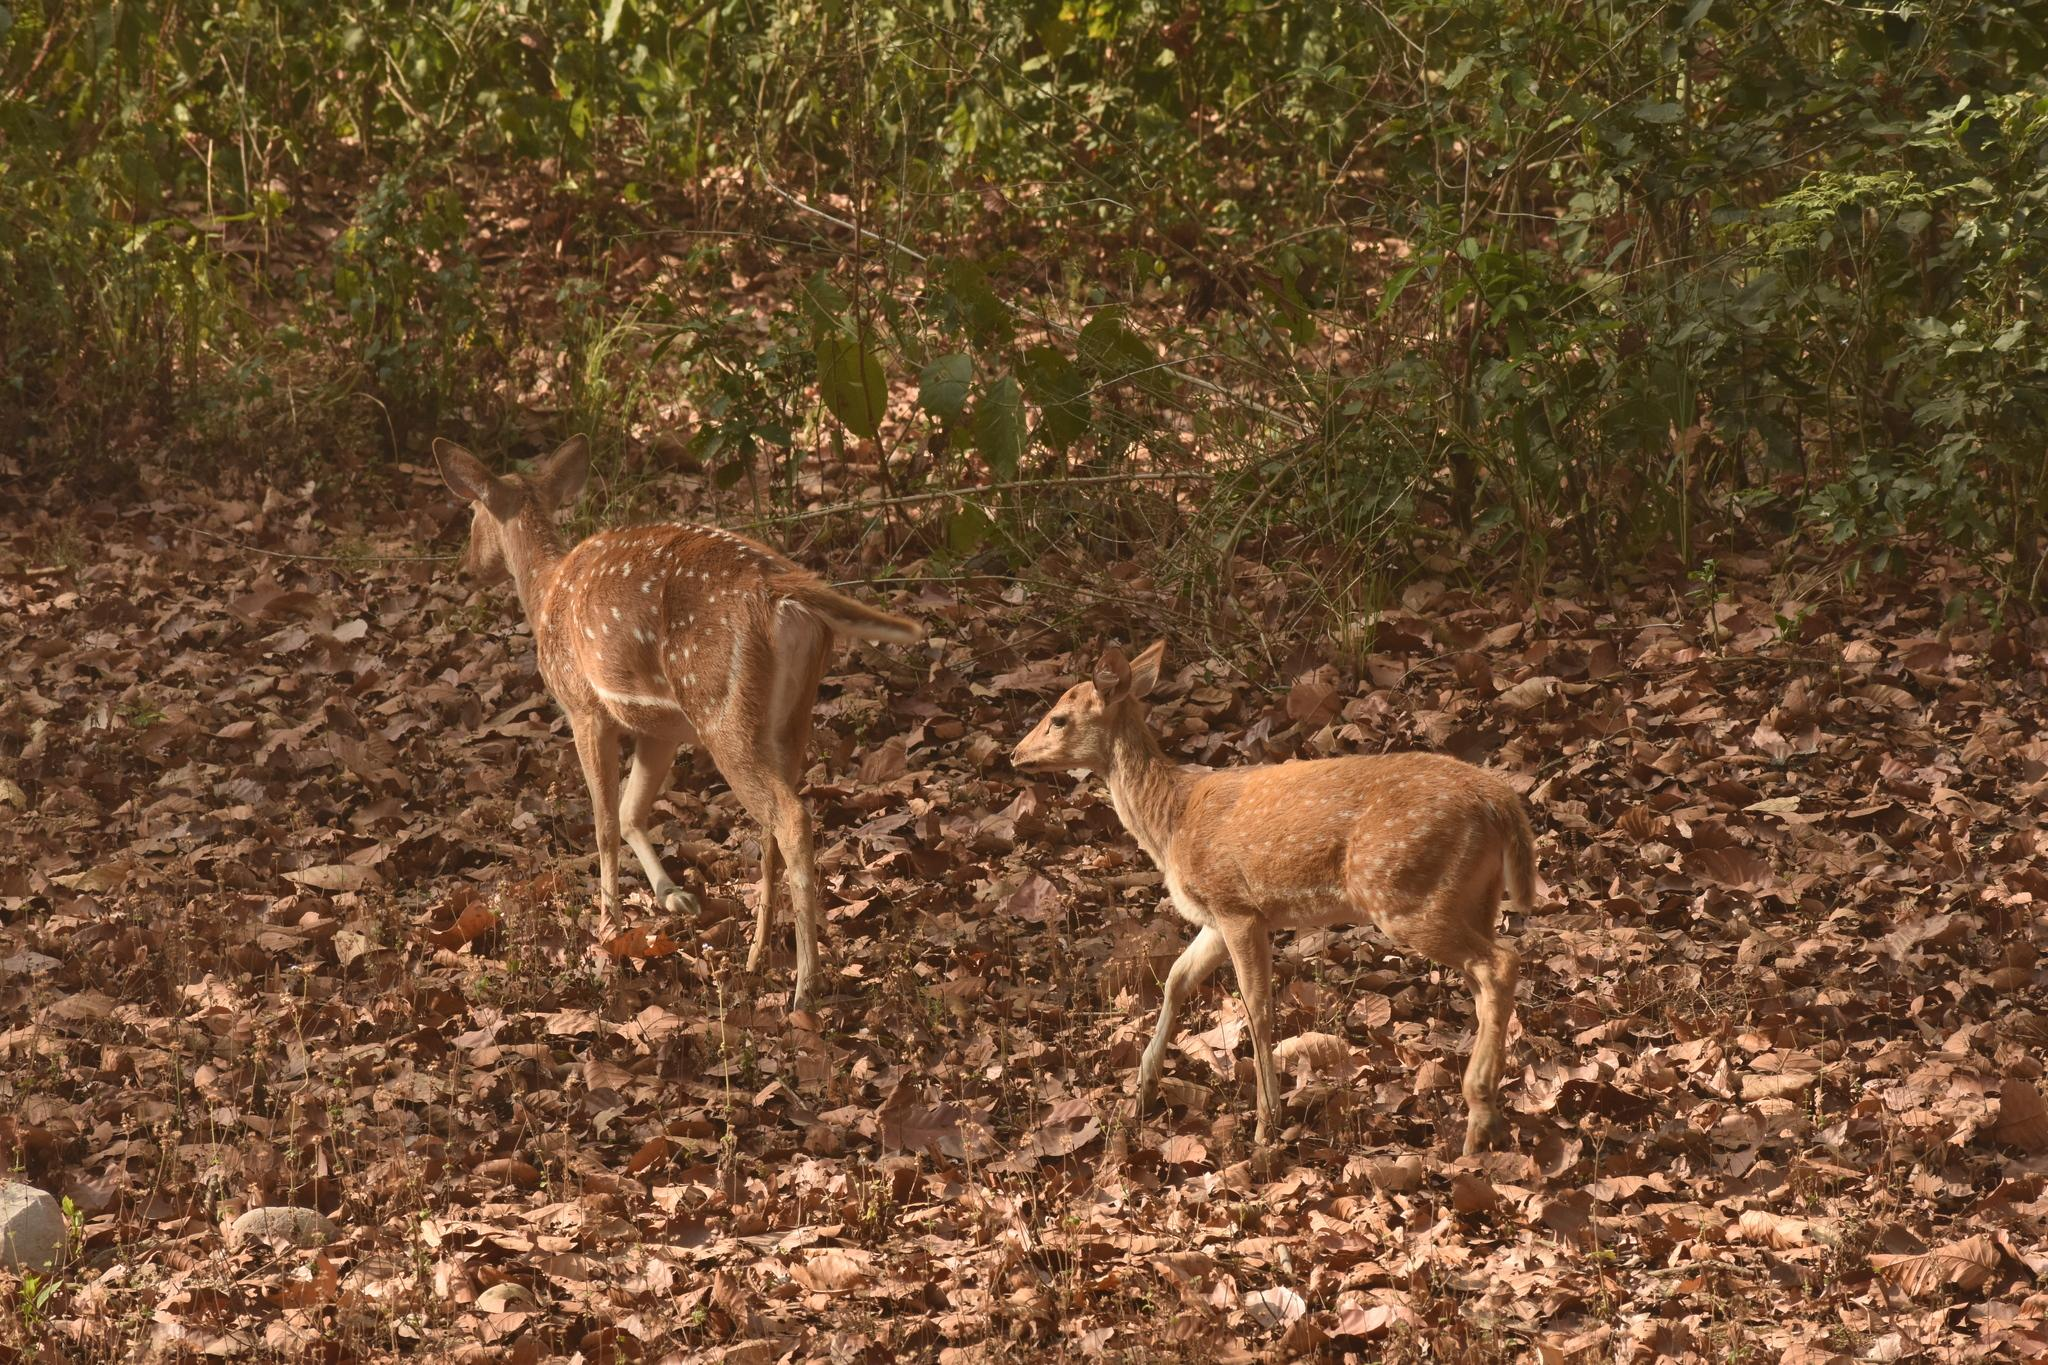Deer: (435, 435, 922, 1007), (1014, 641, 1534, 1148)
